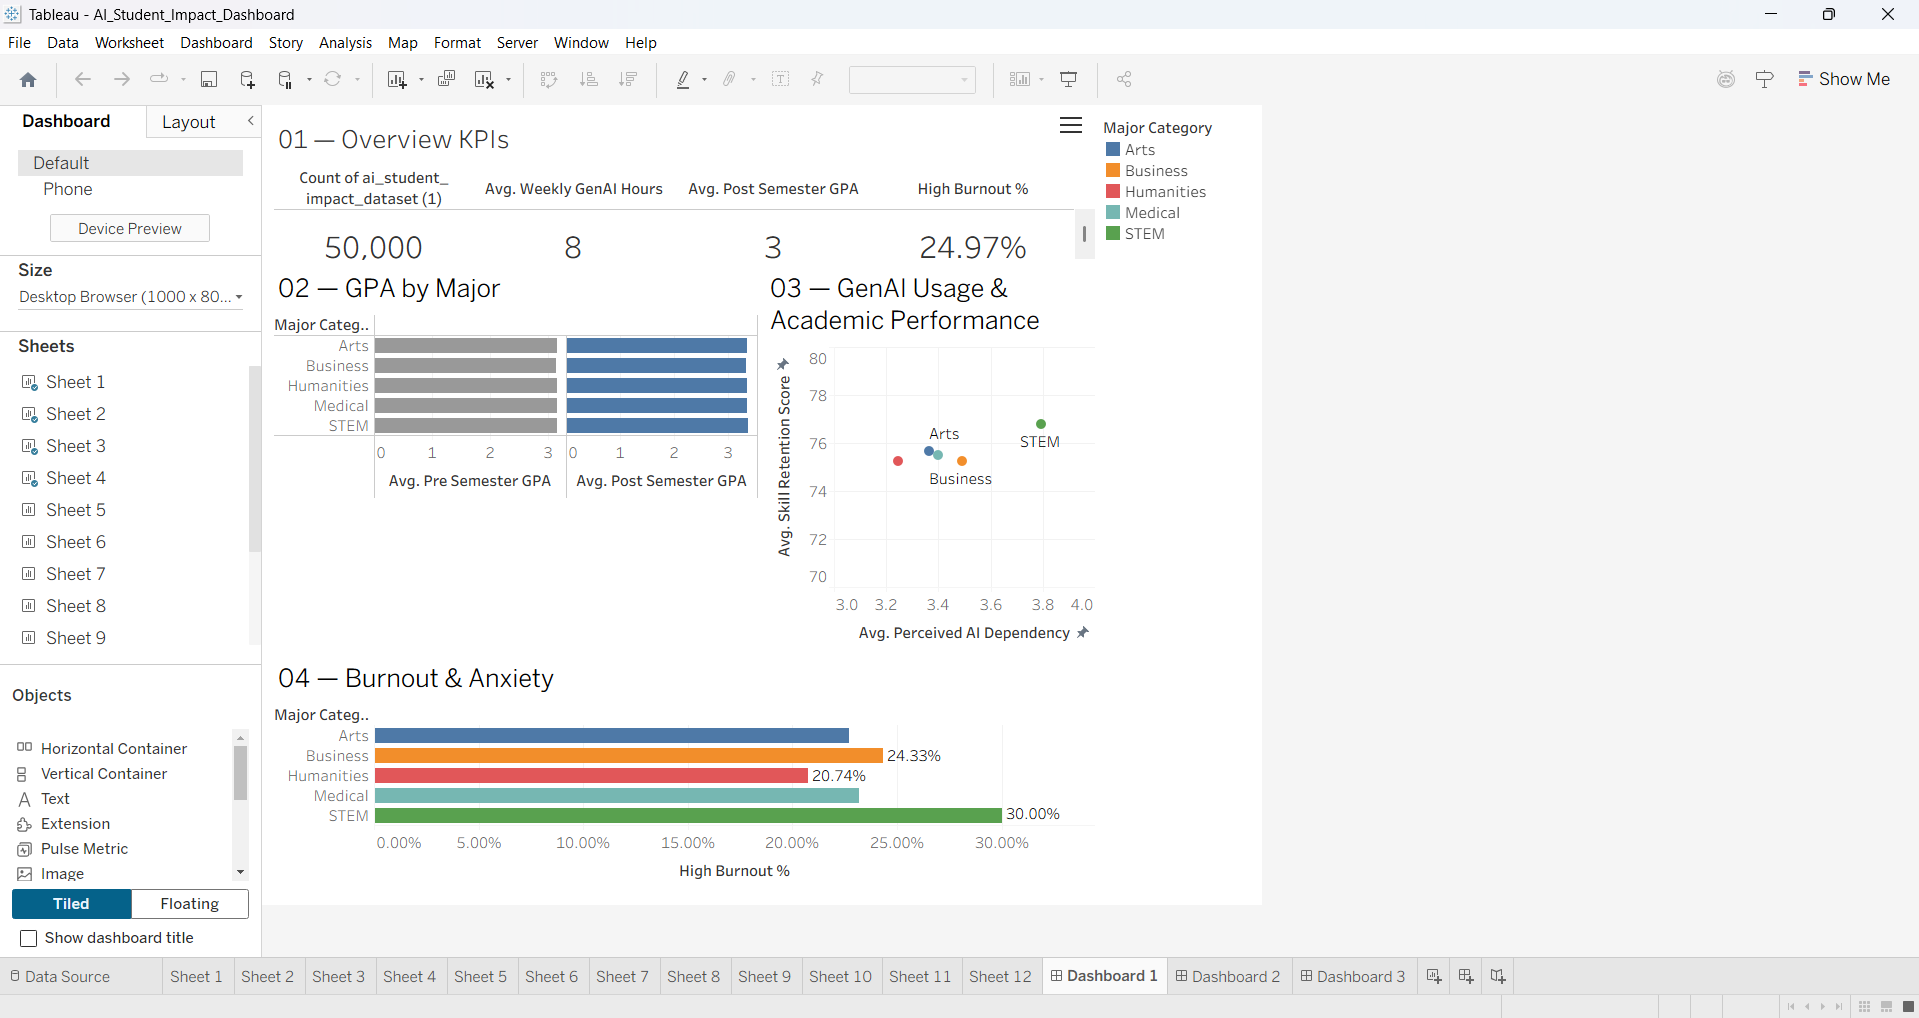

This screenshot's page, from the dashboard's own definition file:
{"tool":"tableau","page":{"name":"Dashboard 1","canvas":[1000,800],"ordinal":0},"visuals":[{"type":"worksheet","title":"Sheet 1","mark":"Automatic","box":[8,8,829,151]},{"type":"dashboard-object","box":[797,8,24,24]},{"type":"legend","title":"Sheet 2","param":"[federated.0zc7qex0z2ube118zi30t0feg6gn].[:Measure Names]","box":[837,8,155,65]},{"type":"legend","title":"Sheet 3","param":"[federated.0zc7qex0z2ube118zi30t0feg6gn].[none:Major_Category:nk]","box":[837,8,155,489]},{"type":"worksheet","title":"Sheet 2","mark":"Automatic","rows":["Major_Category"],"cols":["Pre_Semester_GPA","Post_Semester_GPA"],"box":[8,159,492,390]},{"type":"worksheet","title":"Sheet 3","mark":"Circle","rows":["Skill_Retention_Score"],"cols":["Perceived_AI_Dependency"],"box":[500,159,337,390]},{"type":"worksheet","title":"Sheet 4","mark":"Bar","rows":["Major_Category"],"cols":["Calculation_0507185670656000"],"box":[8,549,829,243]}]}

Visuals, with their boxes on the page's 1000x800 design canvas (x1, y1, x2, y2). These are canvas units, not pixel positions in the 1919x1018 screenshot, which may show the page scaled, cropped or inside an application window:
"Sheet 1" worksheet: rect(8, 8, 837, 159)
dashboard-object: rect(797, 8, 821, 32)
"Sheet 2" legend: rect(837, 8, 992, 73)
"Sheet 3" legend: rect(837, 8, 992, 497)
"Sheet 2" worksheet: rect(8, 159, 500, 549)
"Sheet 3" worksheet (Circle marks): rect(500, 159, 837, 549)
"Sheet 4" worksheet (Bar marks): rect(8, 549, 837, 792)
